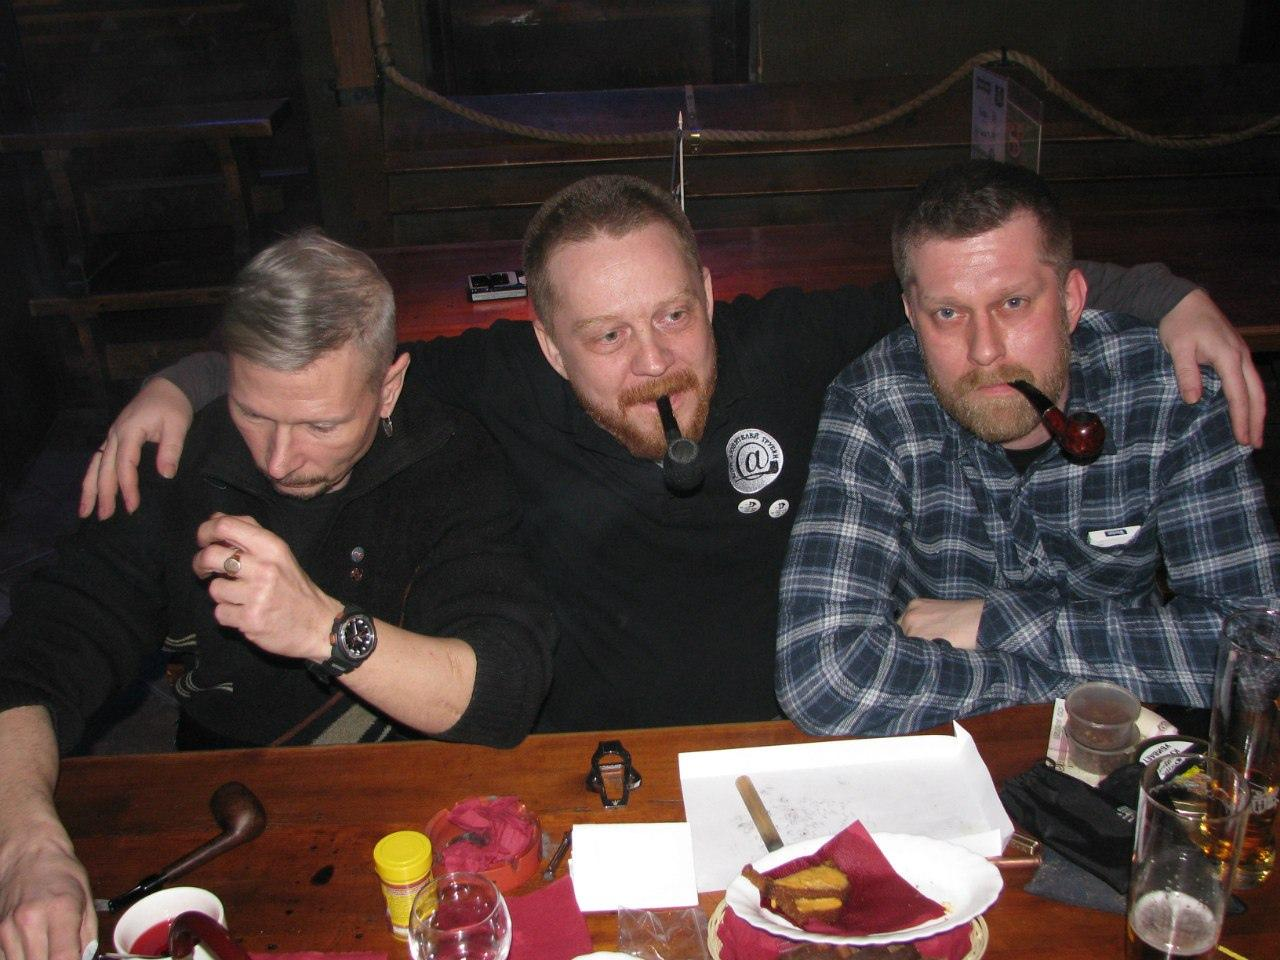trubka: (108, 781, 266, 915), (1010, 380, 1105, 465), (658, 396, 702, 495)
